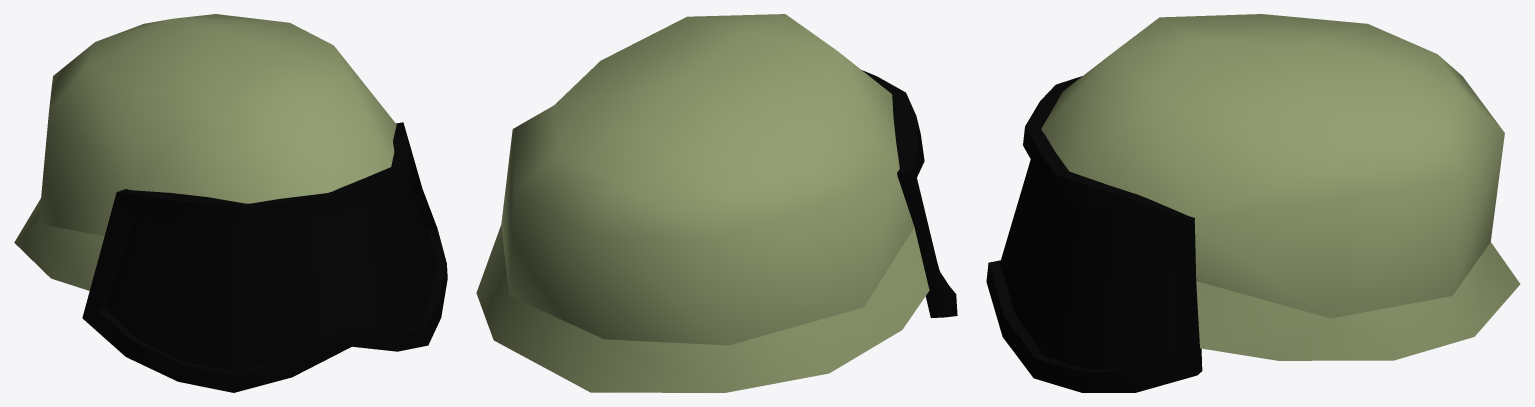
The model's file is Player_Helmet_Type_3.fbx.
3 views of the same model, side by side, from view 1: azimuth 30°, elevation 25°; view 2: azimuth 150°, elevation 25°; view 3: azimuth 270°, elevation 25° (orthographic). The views are drawn at different scales.
Parts seen in each view (by area): view 1: Player_Helmet_Type_3; view 2: Player_Helmet_Type_3; view 3: Player_Helmet_Type_3.
Part boxes in pixels (x1=…): Player_Helmet_Type_3: x1=14, y1=14, x2=447, y2=392; Player_Helmet_Type_3: x1=476, y1=14, x2=957, y2=392; Player_Helmet_Type_3: x1=986, y1=14, x2=1520, y2=392.
Bounding box in the file's own units: 38.65 × 26.73 × 44.77.
